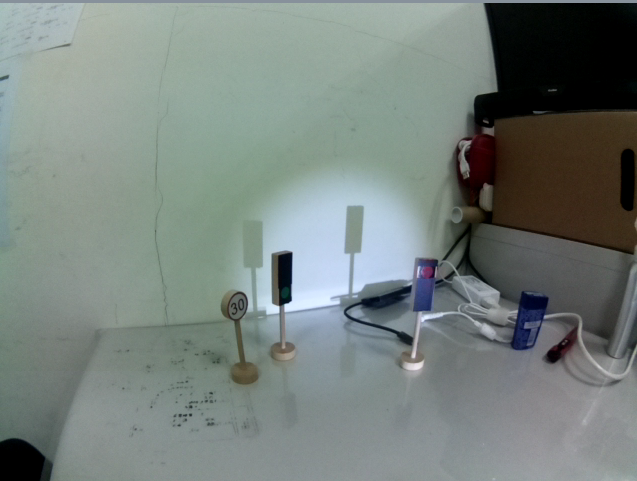Green: (270, 249, 297, 309)
Red: (410, 256, 437, 317)
Speed30: (220, 287, 250, 326)
